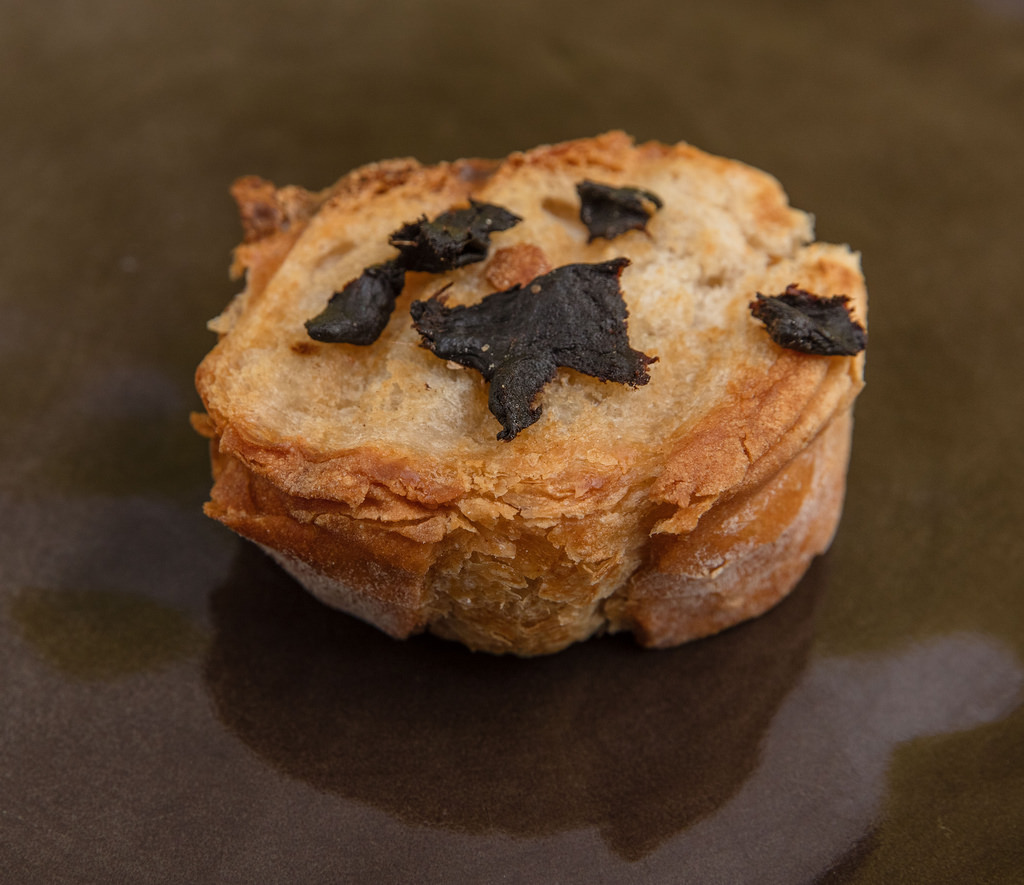slice of bread: (255, 167, 829, 613)
